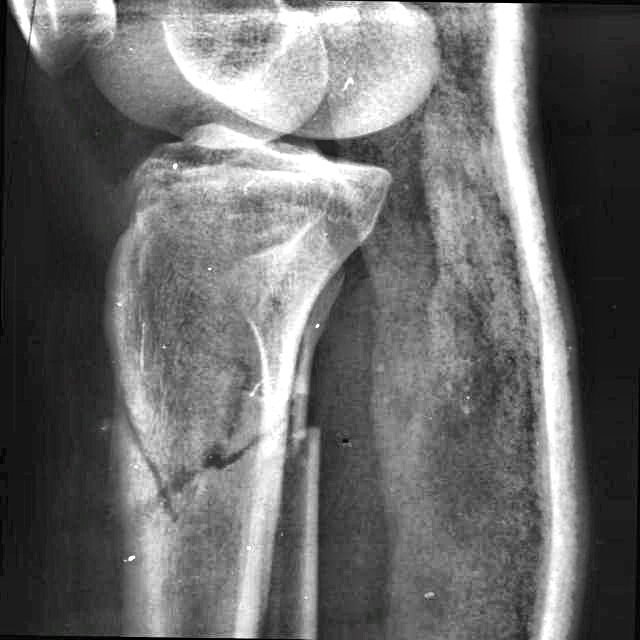Oblique Displaced: (119, 378, 315, 547)
